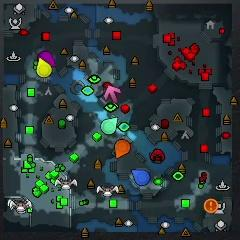Other: (204, 198, 218, 212)
p1: (132, 169, 149, 185)
p2: (101, 118, 117, 135)
p3: (39, 51, 56, 67)
p4: (37, 58, 52, 77)
p5: (115, 140, 131, 159)
x1: (104, 86, 121, 103)
